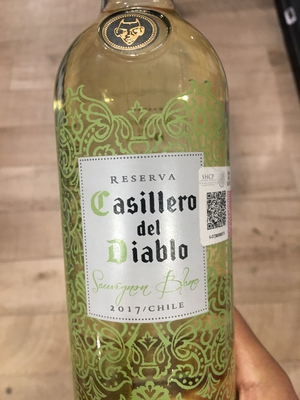casillero del diablo sauvignon blanc: (54, 1, 251, 400)
